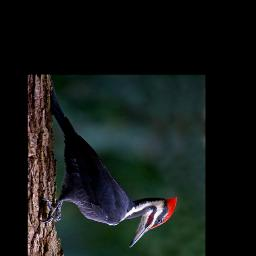Woodpecker: (38, 77, 177, 248)
